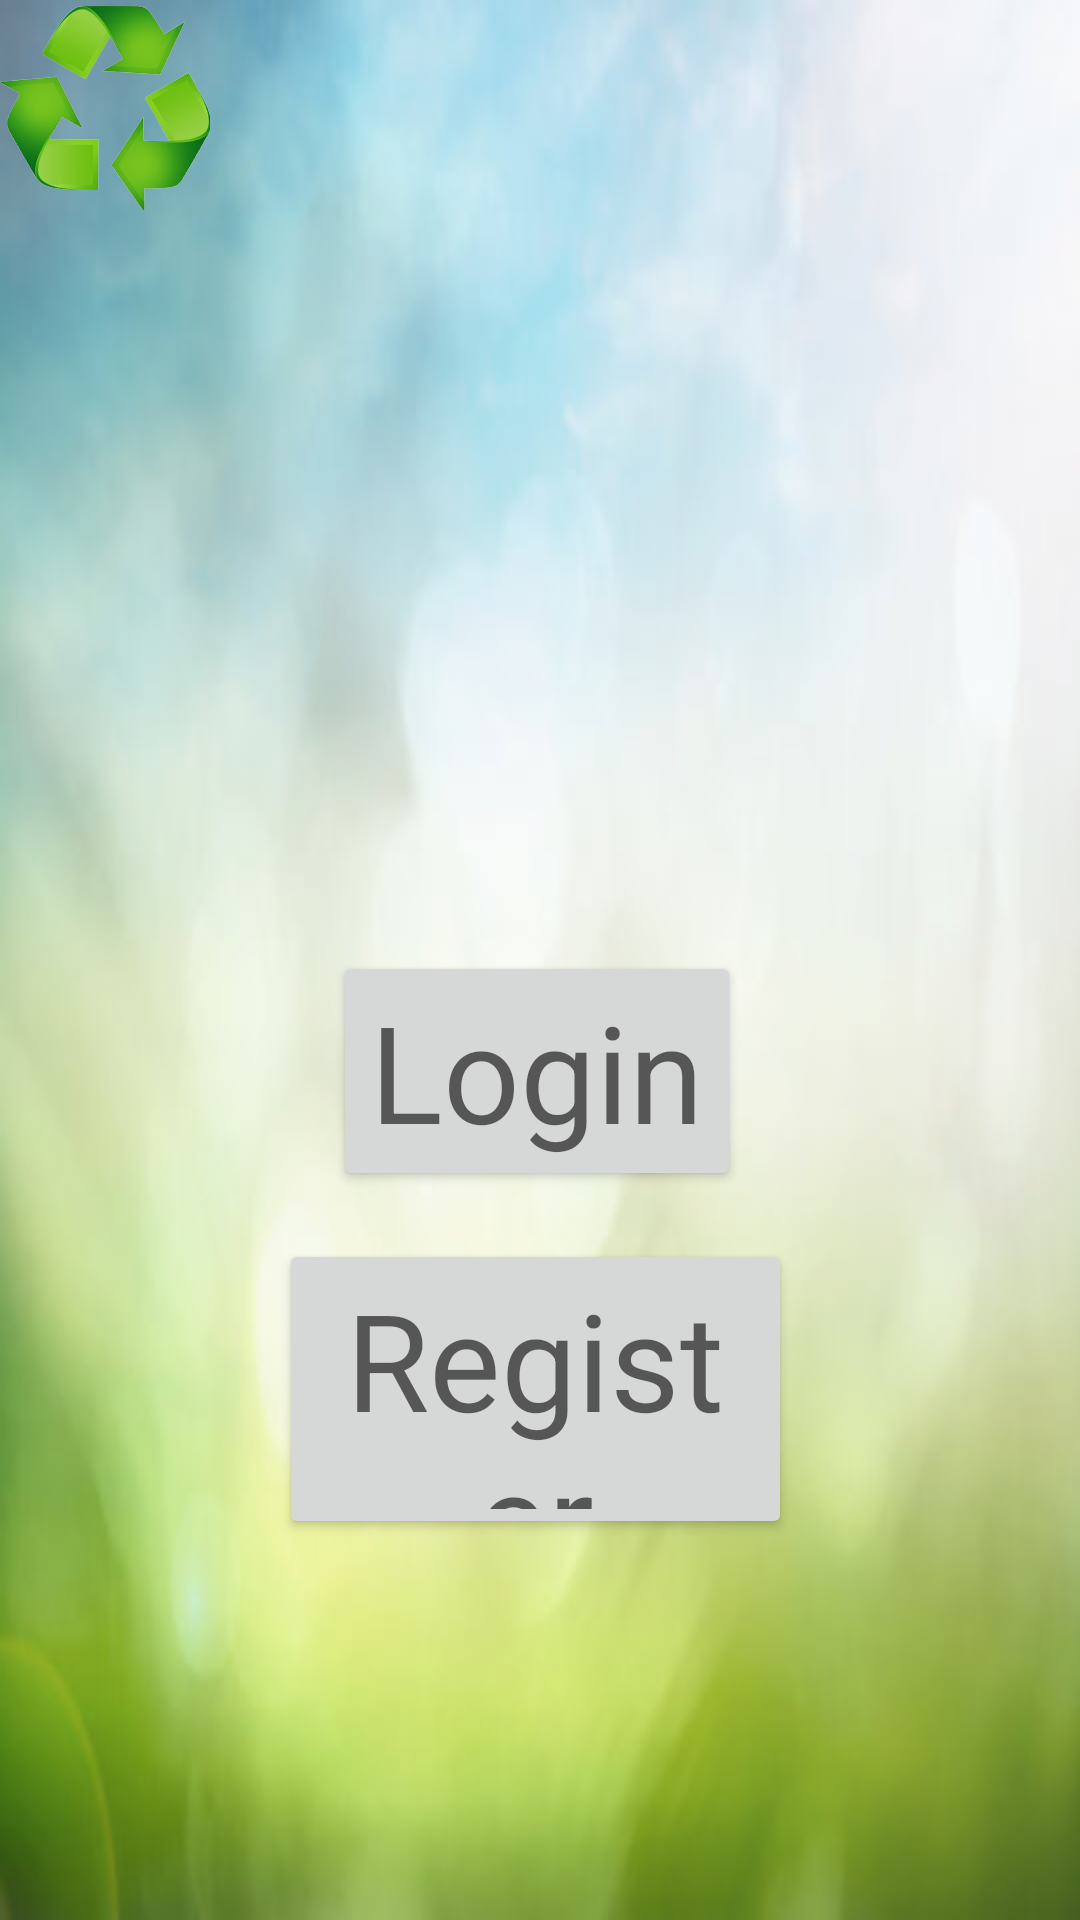

Screen size 1080 x 1920. Icon name, then its box in pixels as (x1, y1, x2, y2):
recyclingsymbol: (0, 3, 210, 213)
